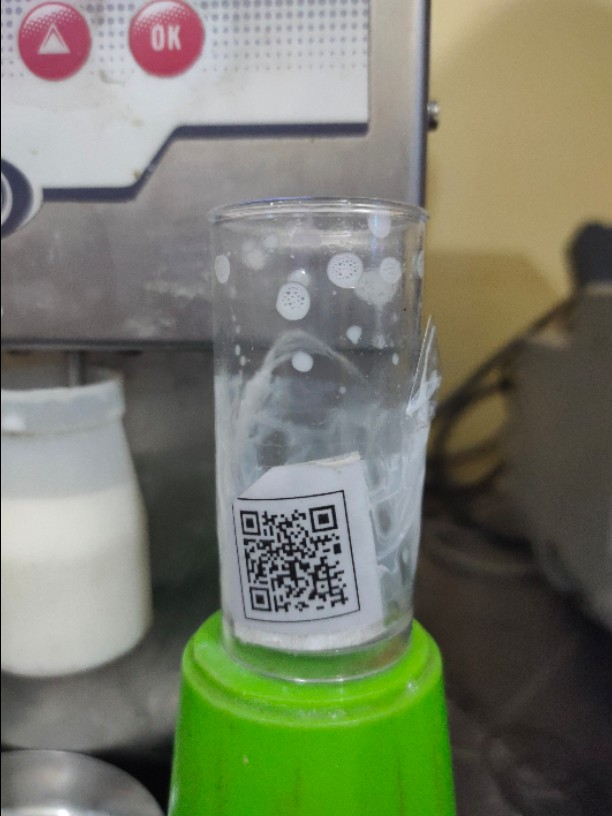qr: (228, 499, 369, 625)
